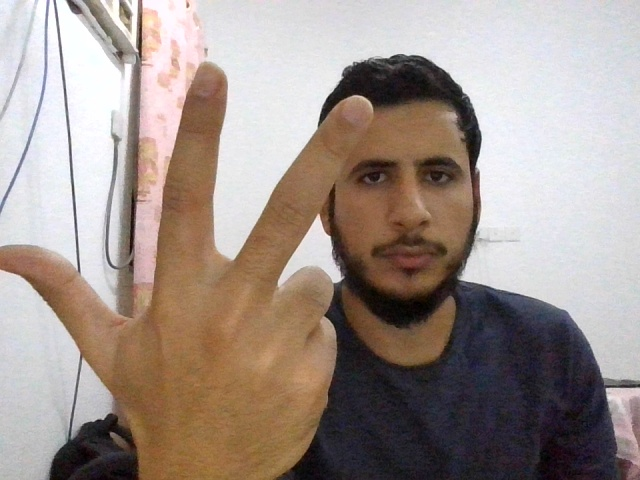Three: (2, 61, 374, 471)
